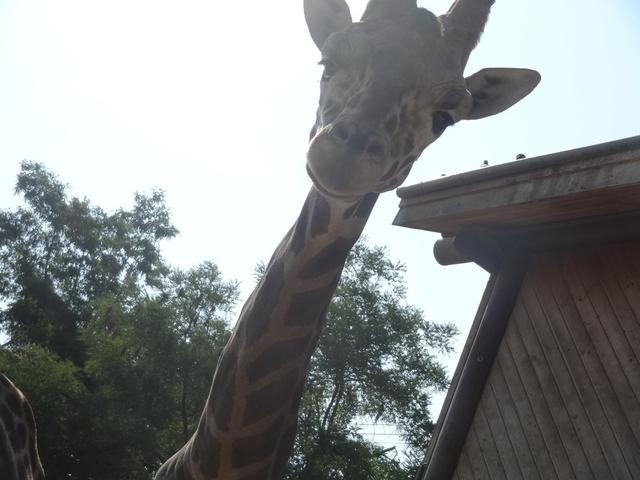giraffe: (38, 2, 577, 478)
